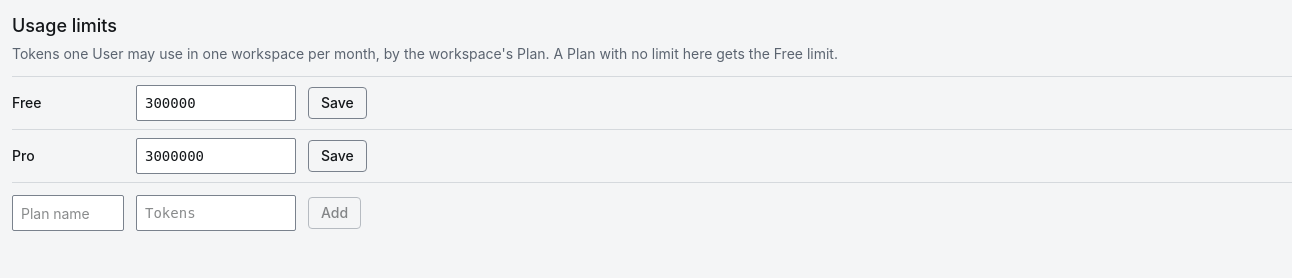
Test: shows why the server refused a limit
Click the button with aria-label "Save Free" at (337, 103), box left=308, top=87, right=367, bottom=119
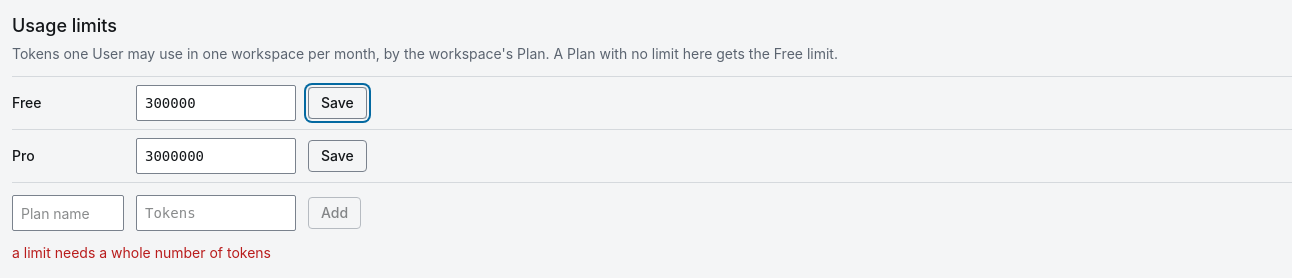
Expected: the message reads "a limit needs a whole number of tokens", left=12, top=244, right=271, bottom=261
